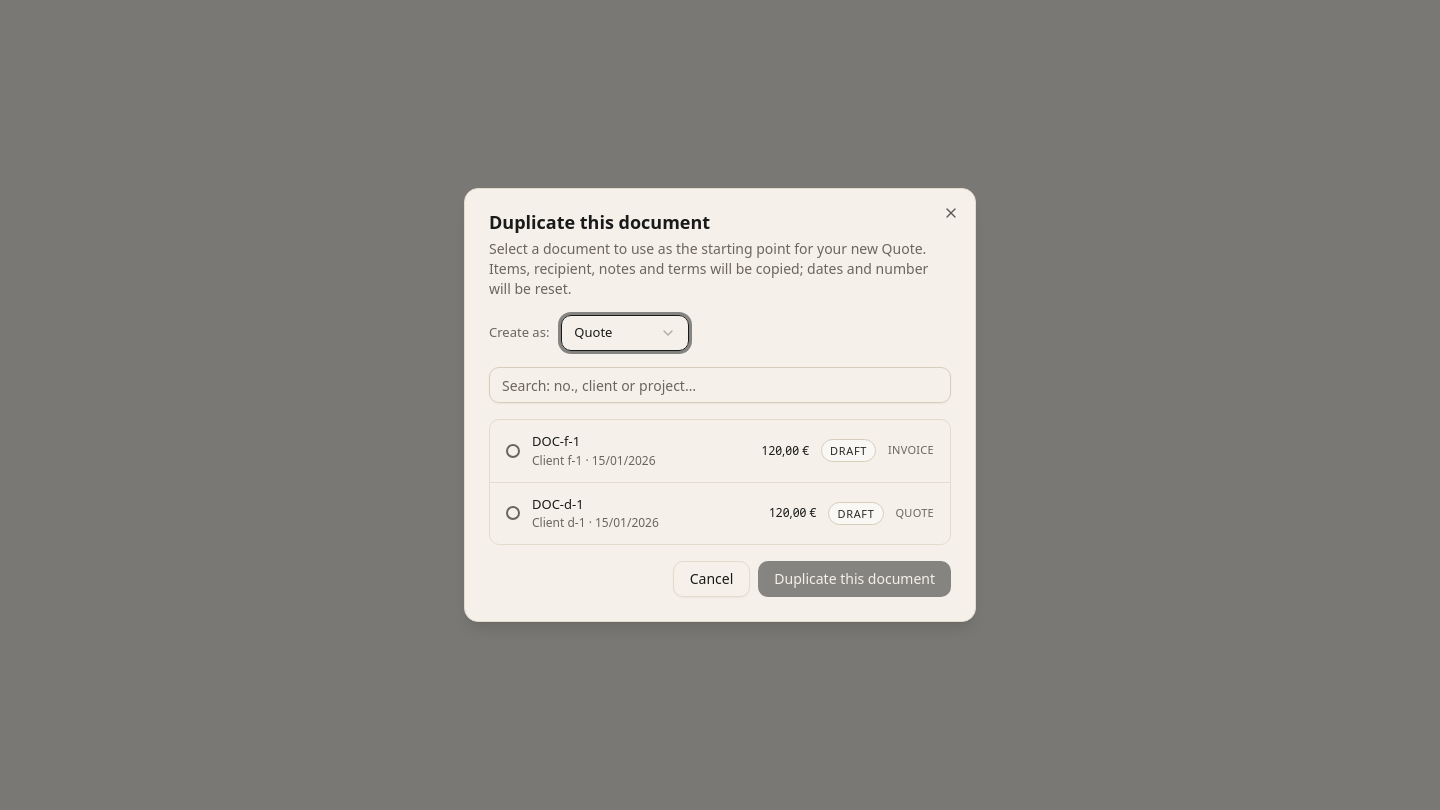
Test case: CreateFromExistingDialog — cross-kind toggle › shows cross-kind warning when target kind differs from selected doc kind
The width and height of the screenshot is (1440, 810).
// Select the facture document (cross-kind for devis target)
Click the text "DOC-f-1". click: (556, 441)
box: x1=532 y1=432 x2=580 y2=450
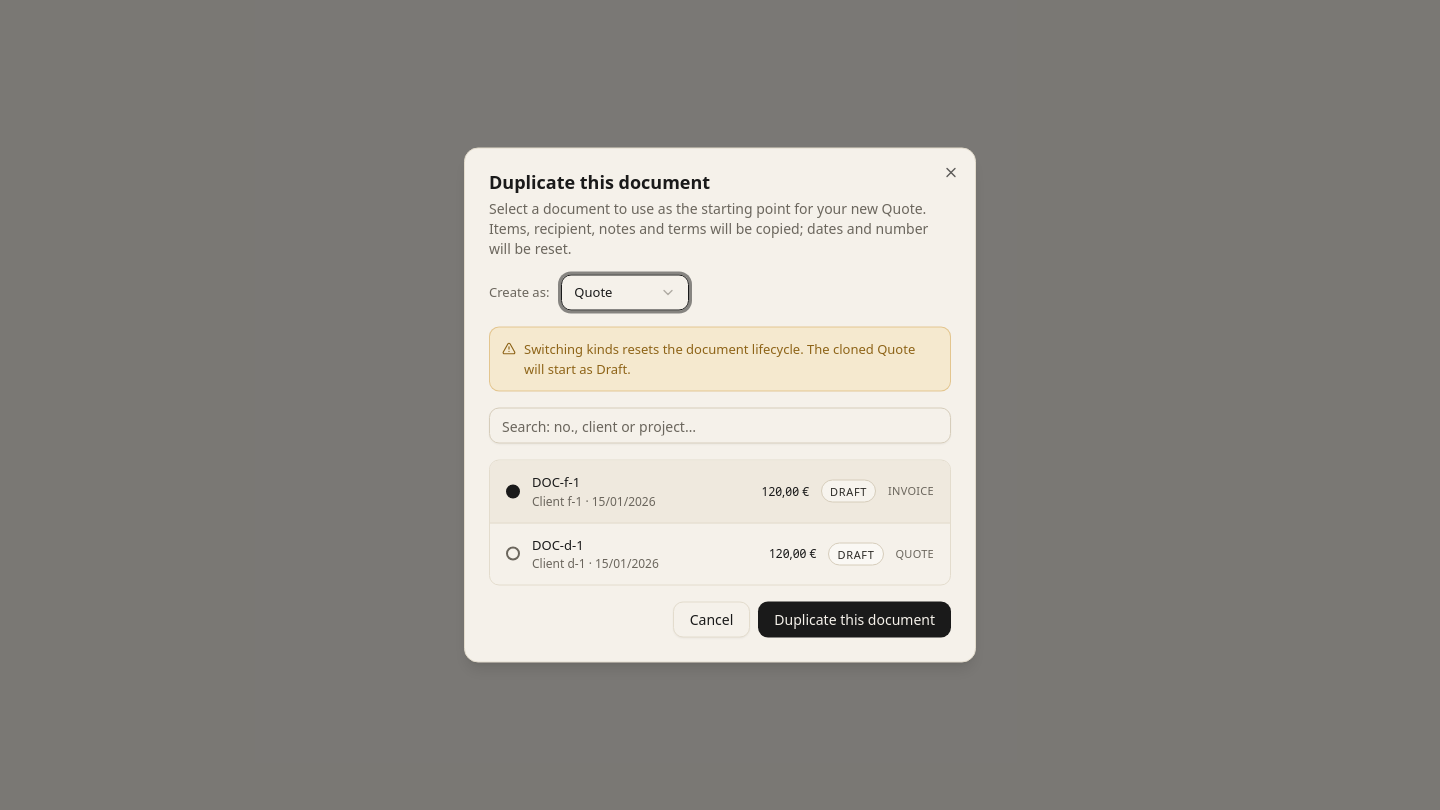
Now the text "Switching kinds resets" is shown, box x1=524 y1=340 x2=915 y2=377
